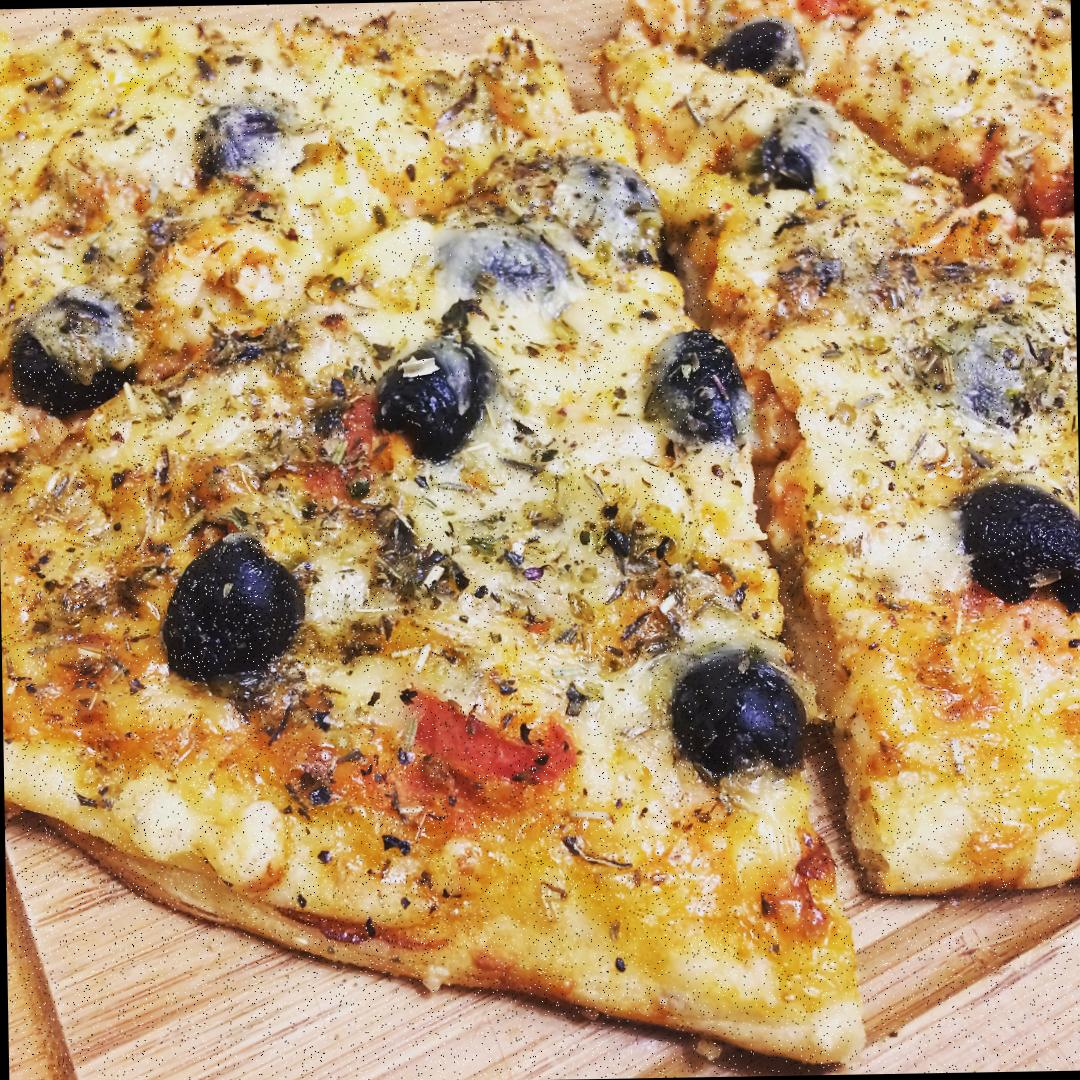Olives: (672, 646, 814, 788), (167, 536, 304, 678), (957, 473, 1080, 614), (8, 287, 136, 415), (434, 230, 584, 335), (372, 336, 496, 460), (639, 328, 754, 446), (700, 16, 805, 98), (192, 104, 290, 190), (744, 114, 837, 199)
Pizza: (0, 0, 1080, 1080)
